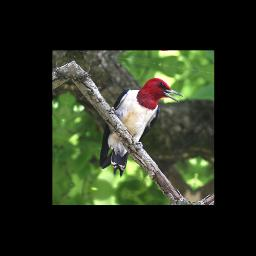Woodpecker: (93, 70, 188, 187)
